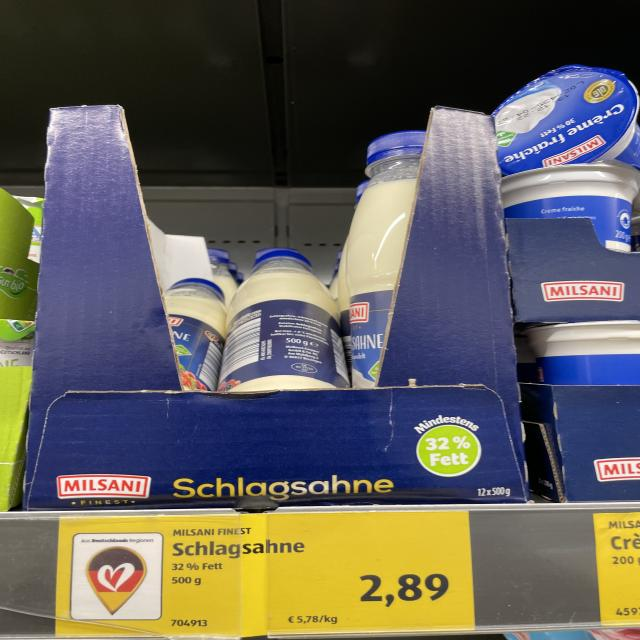Cream: (344, 130, 426, 388), (218, 248, 349, 392), (494, 64, 640, 174), (501, 161, 640, 251), (525, 321, 640, 385), (163, 278, 226, 392)
